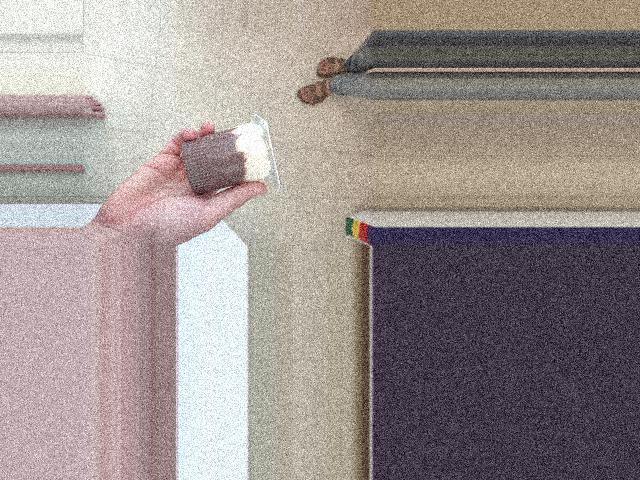milky: (172, 128, 292, 187)
